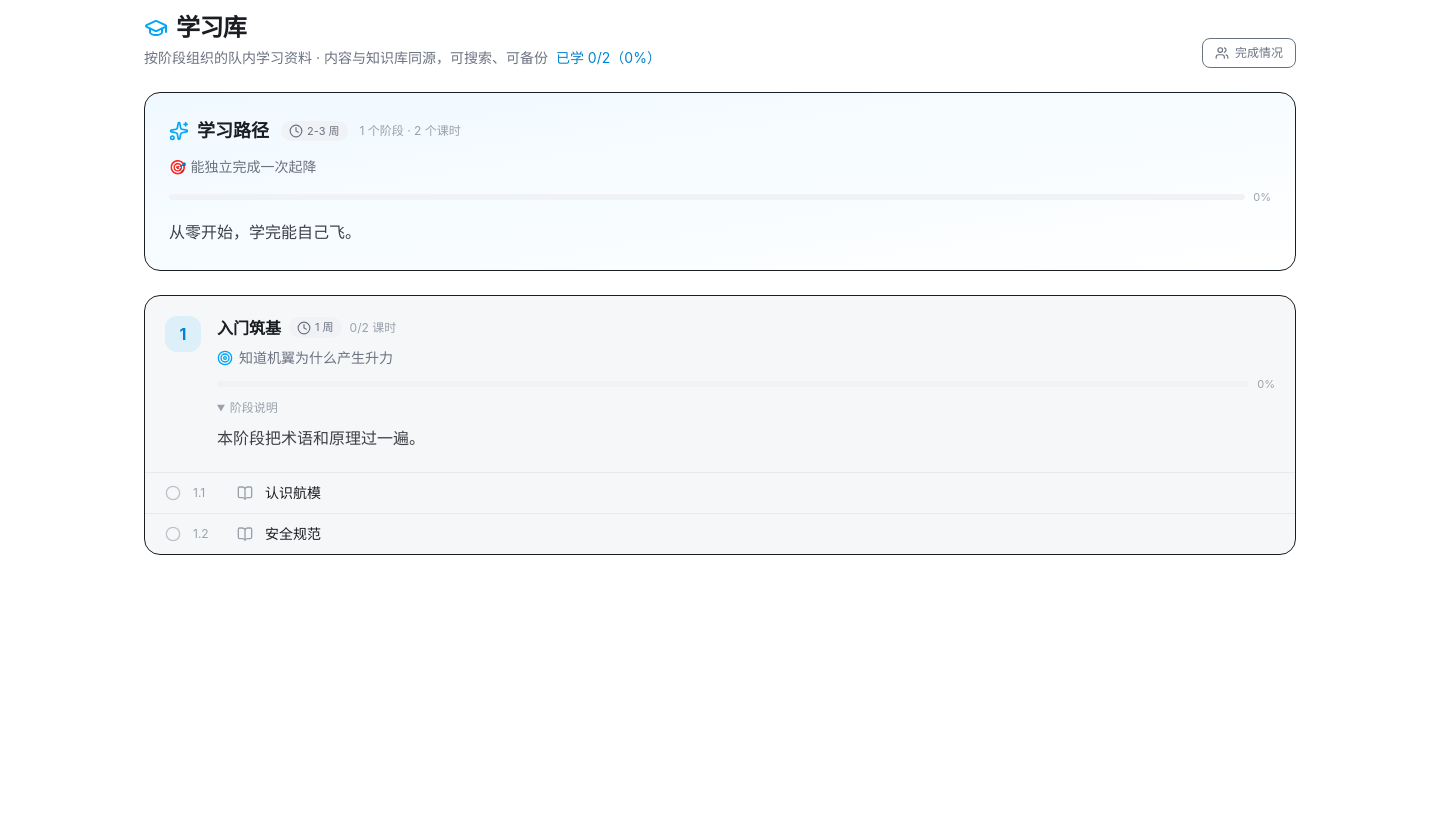
Test: 学习库页 › 部长可打开本部门完成情况
Click the button "完成情况" at (1249, 53), box [1202, 38, 1296, 68]
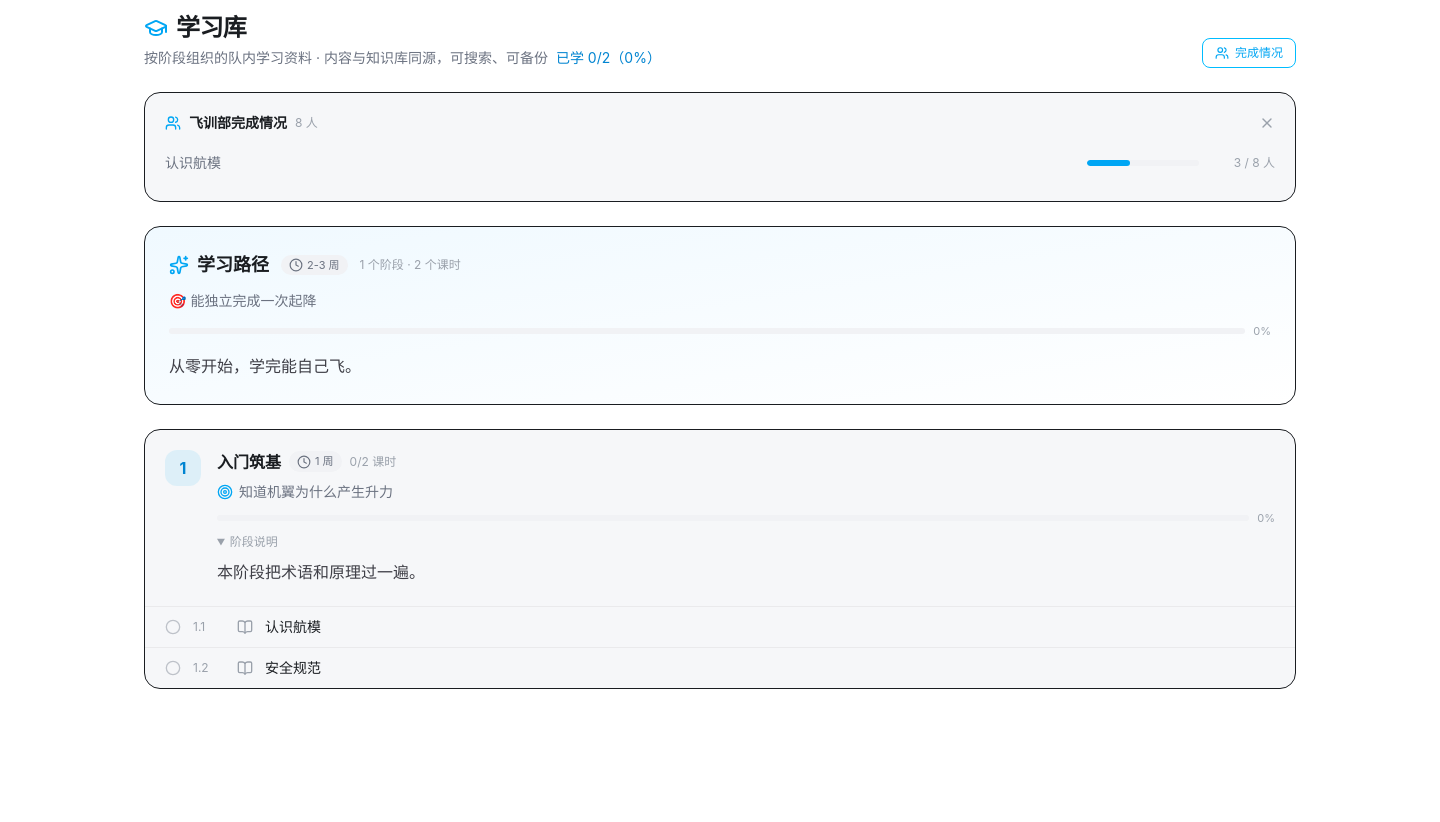
Check: the text "3 / 8 人" is shown, box [1234, 155, 1275, 170]
